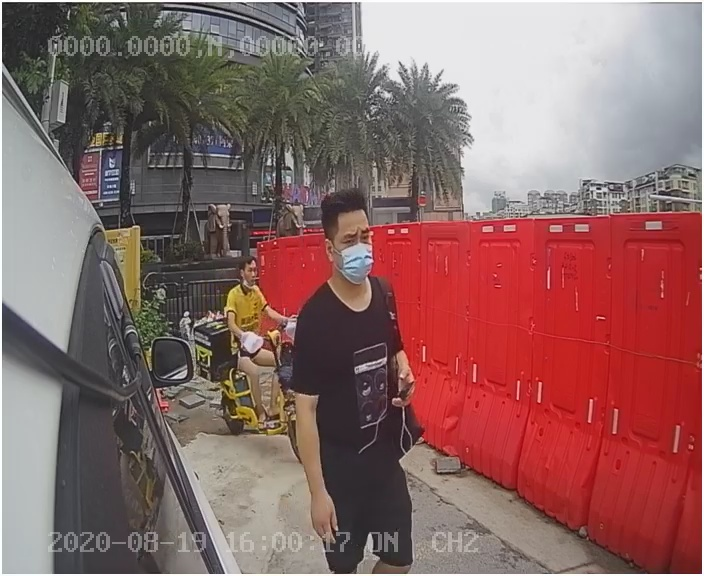person: (272, 186, 437, 530)
